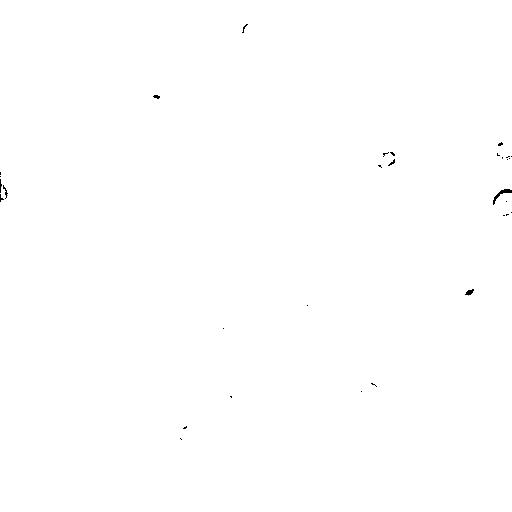micro-algae: (270, 273, 385, 388), (384, 85, 490, 191), (473, 318, 511, 399), (398, 27, 445, 69), (448, 273, 485, 308), (251, 479, 285, 506), (209, 151, 241, 179), (298, 292, 327, 314), (360, 379, 383, 406), (240, 19, 264, 43), (491, 187, 511, 215), (493, 135, 511, 161), (375, 148, 397, 167), (214, 387, 232, 410), (181, 184, 202, 203), (178, 426, 195, 442), (1, 180, 9, 201)
